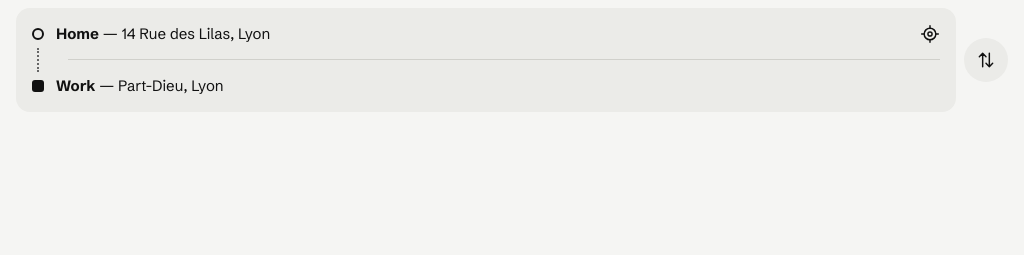
RouteSection › keeps nothing highlighted once a shortcut is used
Click the dropdown named "To" next to "Part-Dieu, Lyon". click: {"x": 504, "y": 86}
box: top-left (56, 60), bottom-right (952, 112)
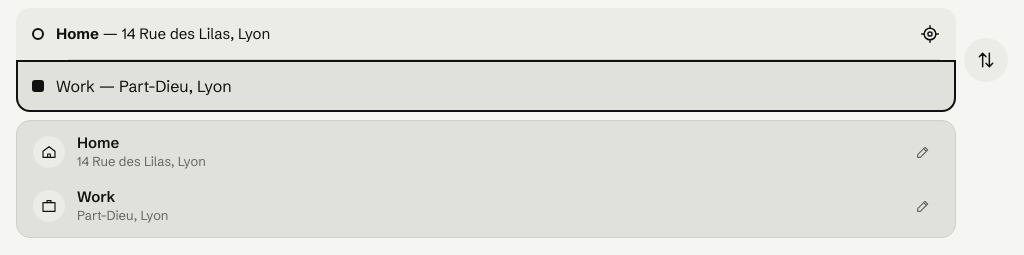
Click the option "Home 14 Rue des Lilas, Lyon". click: {"x": 49, "y": 152}
box: top-left (21, 125), bottom-right (951, 179)
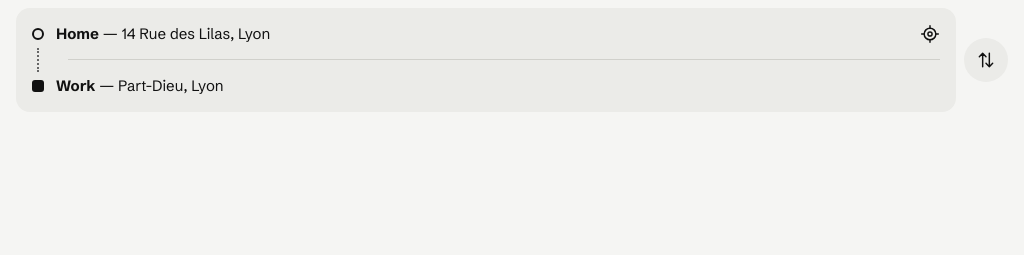
Now the dropdown named "To" next to "Part-Dieu, Lyon" is collapsed, box top-left (56, 60), bottom-right (952, 112)
